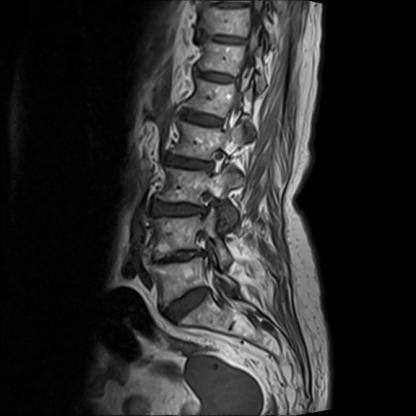Annular Tearrotation: (160, 293, 217, 315), (152, 247, 202, 270)
Disc Bulgerotation: (162, 155, 216, 178), (160, 293, 216, 315), (152, 246, 202, 270), (178, 108, 227, 129)
